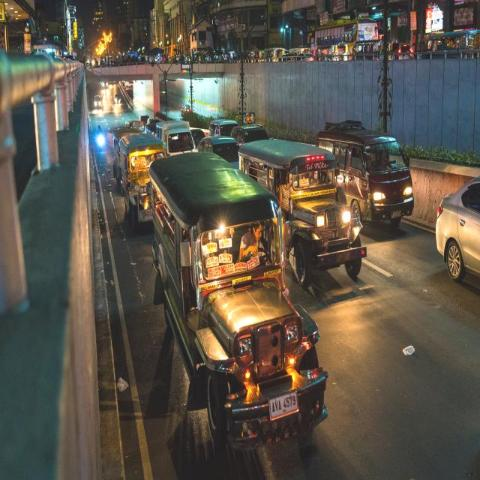jeepney: (148, 148, 327, 453), (242, 136, 363, 291), (114, 129, 168, 228)
van: (318, 120, 415, 228)
